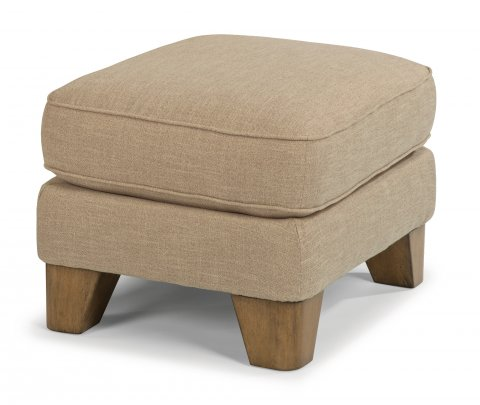chairs: (36, 27, 441, 374)
